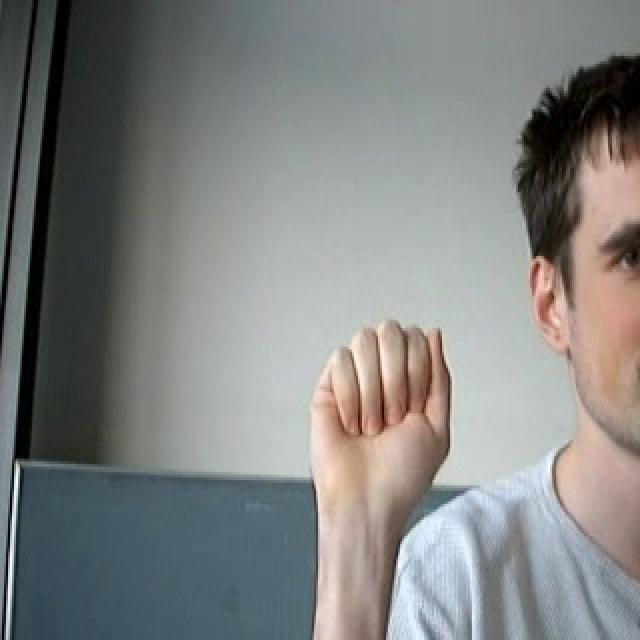A: (301, 304, 465, 536)
